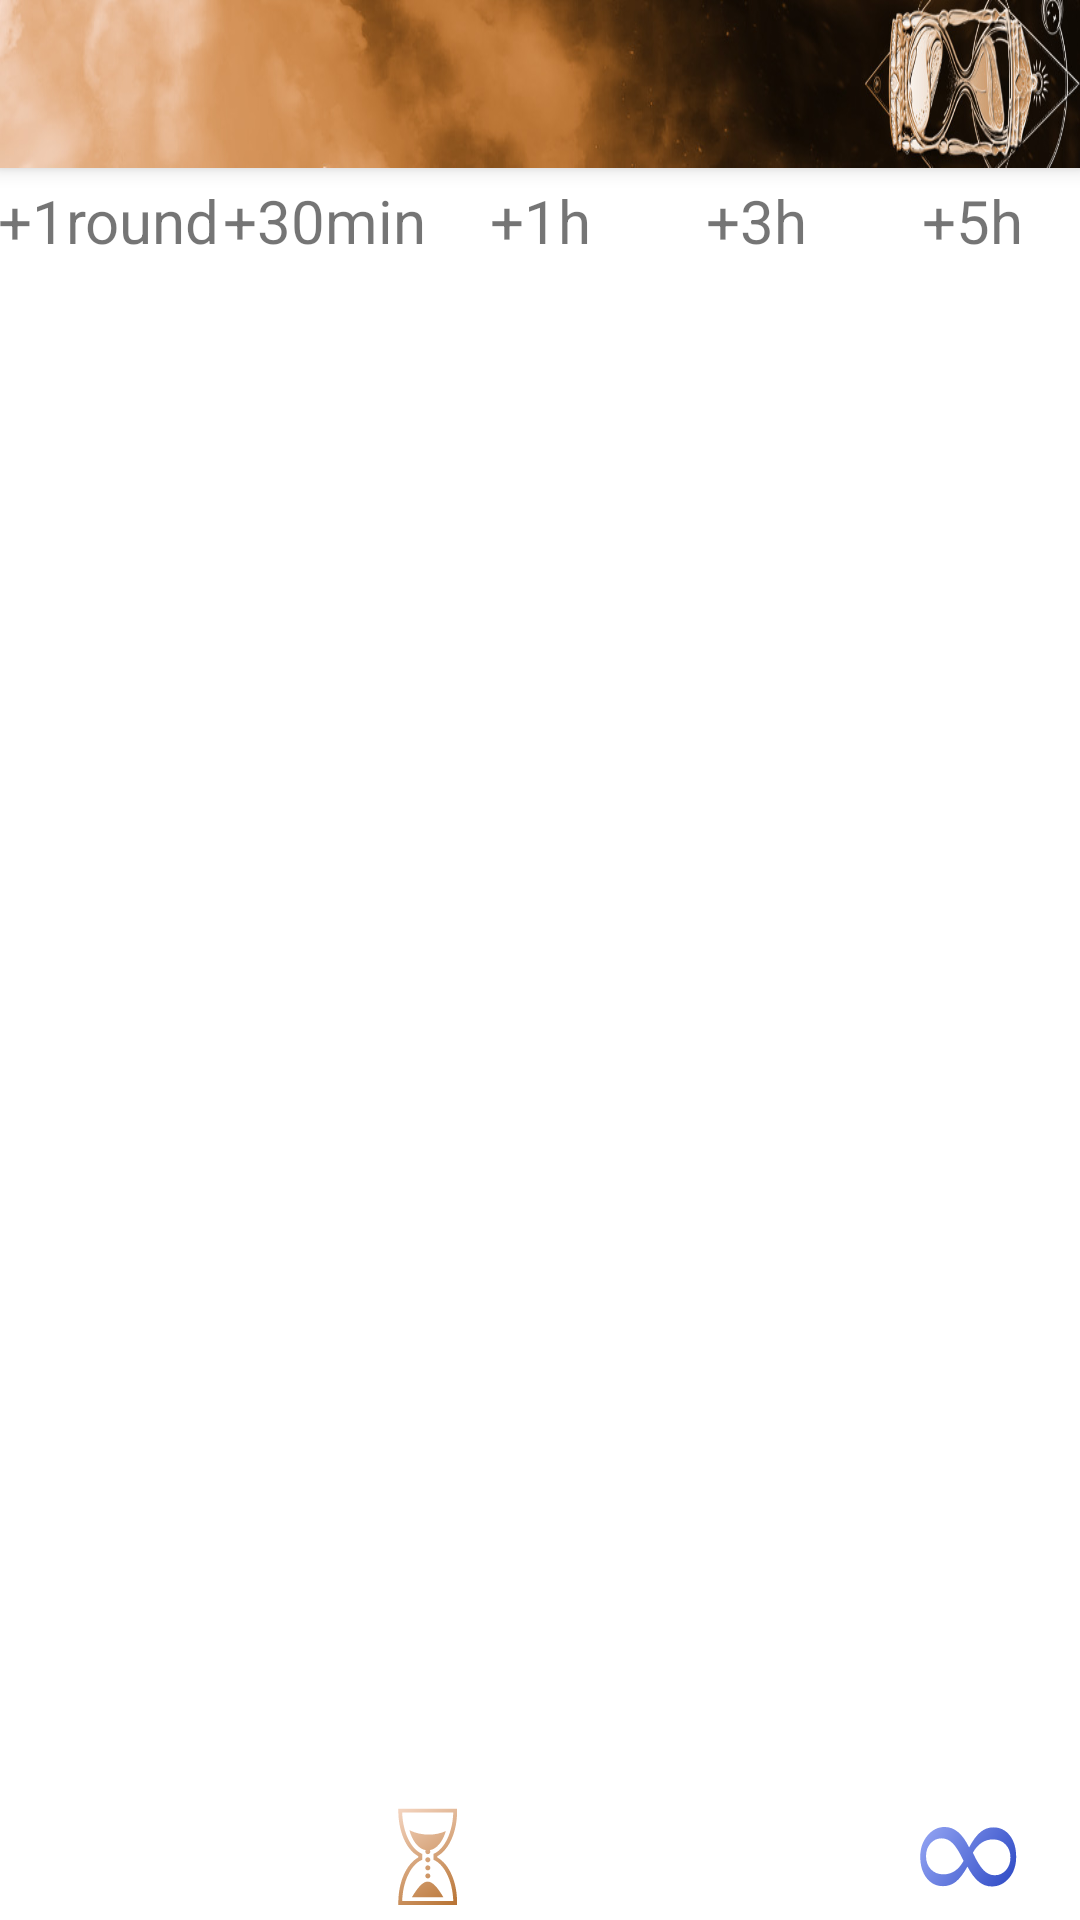

Locate icon controls on the screen. Image size 1080 × 1920, boxes as (x1, y1, x2, y2).
infinity: (920, 1827, 1017, 1887)
sands of time: (398, 1809, 457, 1905)
